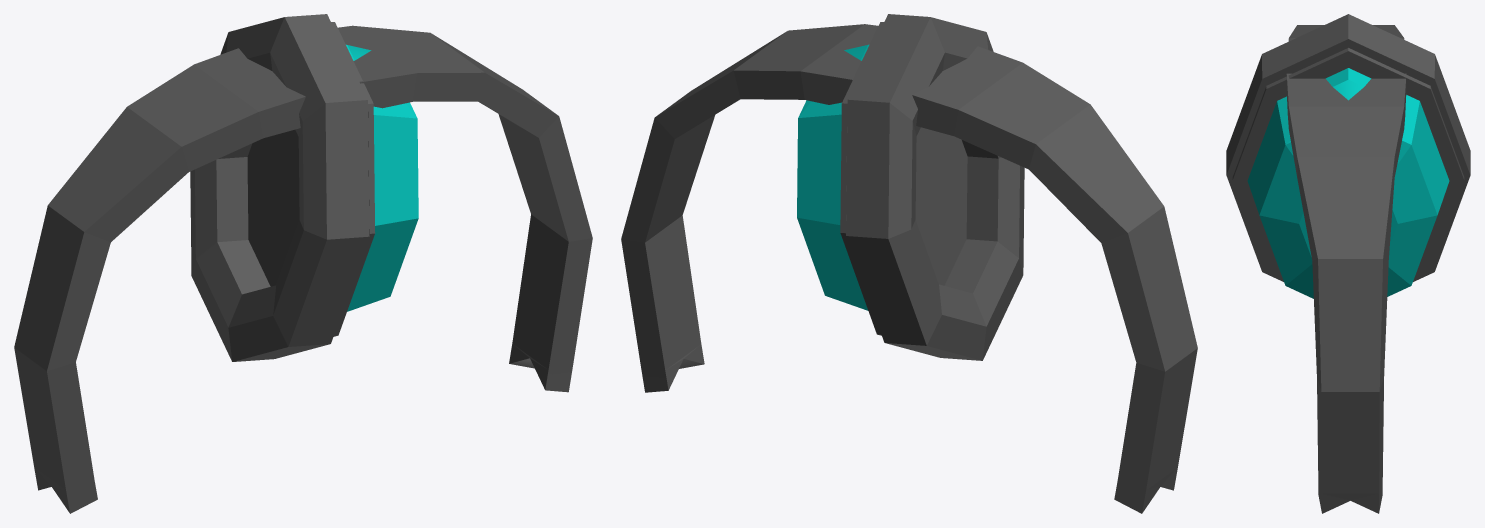
Rendered from headphones.fbx.
The picture shows the model from 3 angles, left to right: view 1: azimuth 30°, elevation 25°; view 2: azimuth 150°, elevation 25°; view 3: azimuth 270°, elevation 25°; orthographic projection. The views are drawn at different scales.
Parts seen in each view (by area): view 1: headphone_band, headphone_speaker; view 2: headphone_band, headphone_speaker; view 3: headphone_band, headphone_speaker.
Boxes of the visible parts, left/top/right/bottom form: headphone_band: left=14, top=25, right=592, bottom=513; headphone_speaker: left=190, top=14, right=418, bottom=361; headphone_band: left=621, top=24, right=1197, bottom=513; headphone_speaker: left=797, top=14, right=1024, bottom=360; headphone_band: left=1286, top=25, right=1406, bottom=513; headphone_speaker: left=1226, top=14, right=1470, bottom=298.
Bounding box in the file's own units: 871 × 656 × 379.
